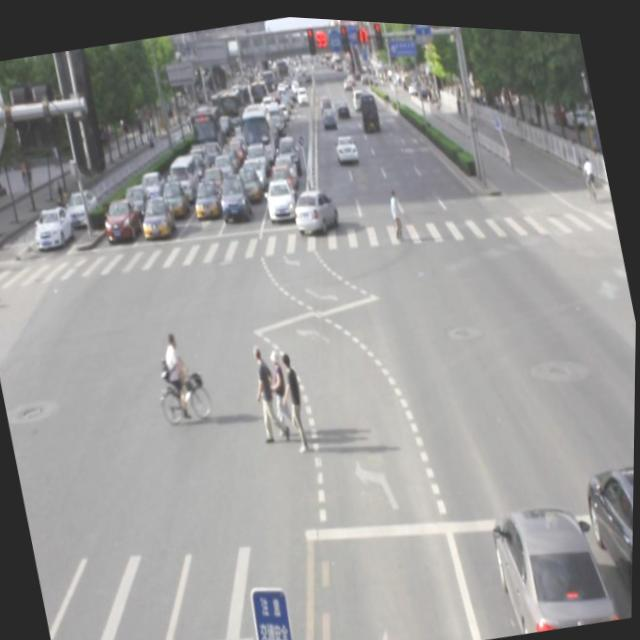car: (486, 485, 615, 634), (579, 446, 635, 613), (288, 180, 340, 231)
